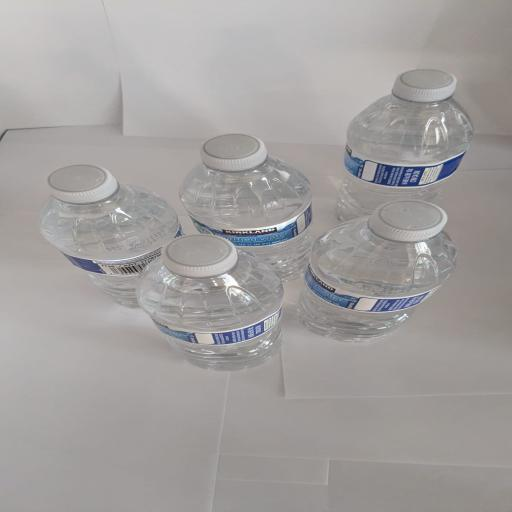waterbottle: (299, 201, 456, 341), (337, 70, 472, 220), (40, 166, 181, 307), (138, 235, 283, 370), (180, 134, 311, 280)
